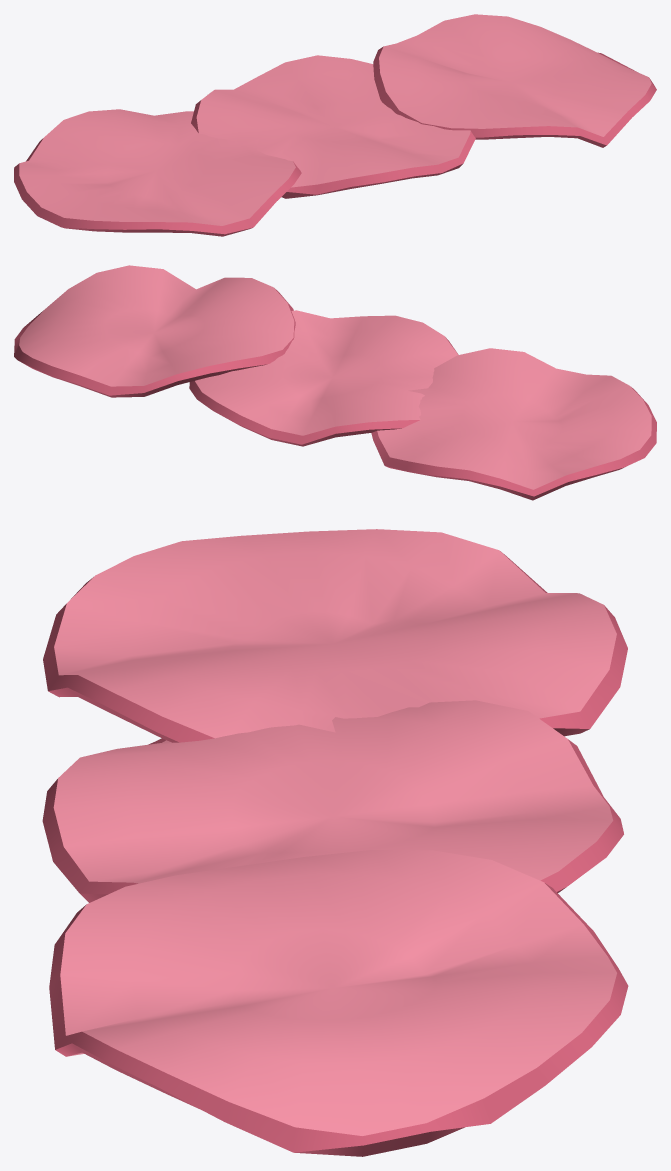
The model's file is Food_Ham.fbx.
3 renders of one model, top to bottom at view 1: azimuth 30°, elevation 25°; view 2: azimuth 150°, elevation 25°; view 3: azimuth 270°, elevation 25°, orthographic. The views are drawn at different scales.
Visible parts, largest first — view 1: Meat, MeatEdge; view 2: Meat, MeatEdge; view 3: Meat, MeatEdge.
Part boxes in pixels (bbox=[...]): Meat: bbox=[19, 14, 651, 225]; MeatEdge: bbox=[14, 46, 656, 236]; Meat: bbox=[19, 265, 651, 489]; MeatEdge: bbox=[14, 288, 656, 500]; Meat: bbox=[53, 529, 616, 1135]; MeatEdge: bbox=[42, 551, 628, 1156].
Size of the model in its own units: 225 by 16.34 by 94.52.
